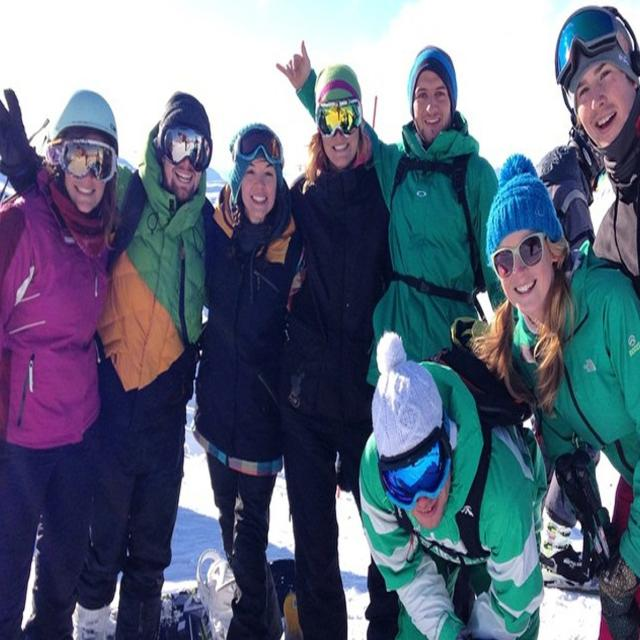body: (0, 87, 215, 640), (463, 147, 640, 639), (275, 37, 517, 391), (282, 61, 400, 640), (0, 84, 122, 639), (187, 118, 307, 640), (357, 326, 554, 639), (553, 2, 640, 292), (532, 121, 607, 249)
